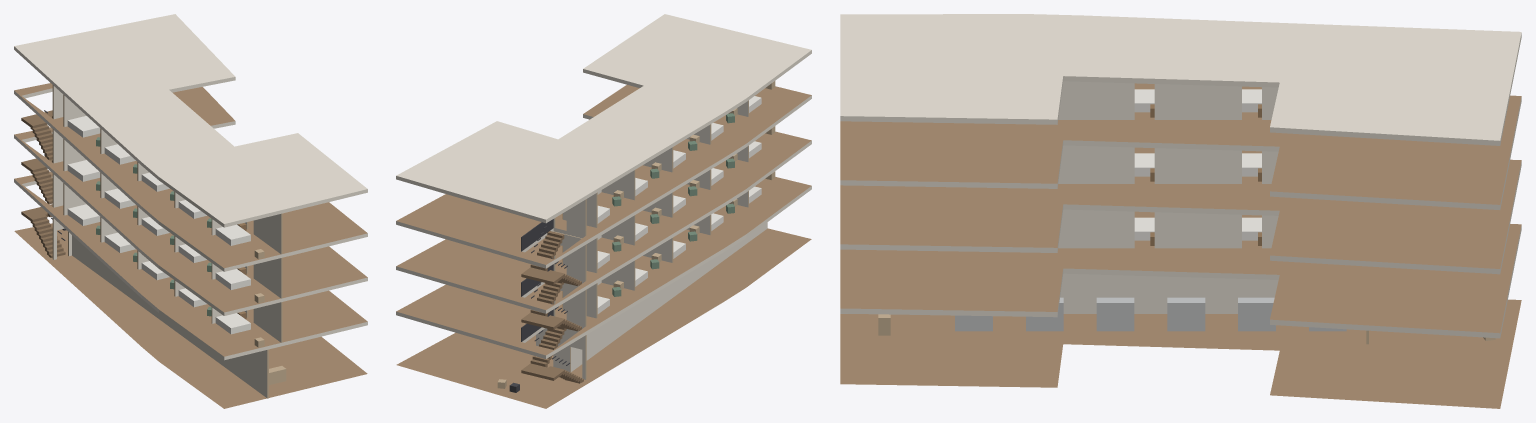
The model's file is interior.glb.
3 views of the same model, side by side, from view 1: azimuth 30°, elevation 25°; view 2: azimuth 150°, elevation 25°; view 3: azimuth 270°, elevation 25° (orthographic). The views are drawn at different scales.
Parts seen in each view (by area): view 1: slabs, partitions, stair, coarse-s3, coarse-s2, coarse-s1; view 2: slabs, partitions, stair, coarse-s2, coarse-s1, coarse-s3; view 3: slabs, partitions, coarse-s0, coarse-s2, coarse-s1, coarse-s3.
Boxes of the visible parts, <box> form: slabs: <box>14,14,367,408</box>; partitions: <box>52,85,282,398</box>; stair: <box>21,110,65,257</box>; coarse-s3: <box>67,116,264,259</box>; coarse-s2: <box>67,160,264,303</box>; coarse-s1: <box>67,204,264,347</box>; slabs: <box>396,14,811,408</box>; partitions: <box>536,100,767,379</box>; stair: <box>521,219,583,383</box>; coarse-s2: <box>597,126,775,268</box>; coarse-s1: <box>597,171,775,313</box>; coarse-s3: <box>597,81,775,223</box>; slabs: <box>840,14,1521,408</box>; partitions: <box>840,81,1368,344</box>; coarse-s0: <box>878,297,1495,340</box>; coarse-s2: <box>1134,153,1261,181</box>; coarse-s1: <box>1134,217,1261,245</box>; coarse-s3: <box>1134,89,1261,117</box>.
Bounding box in the file's own units: 13.58 × 13.4 × 30.82.
